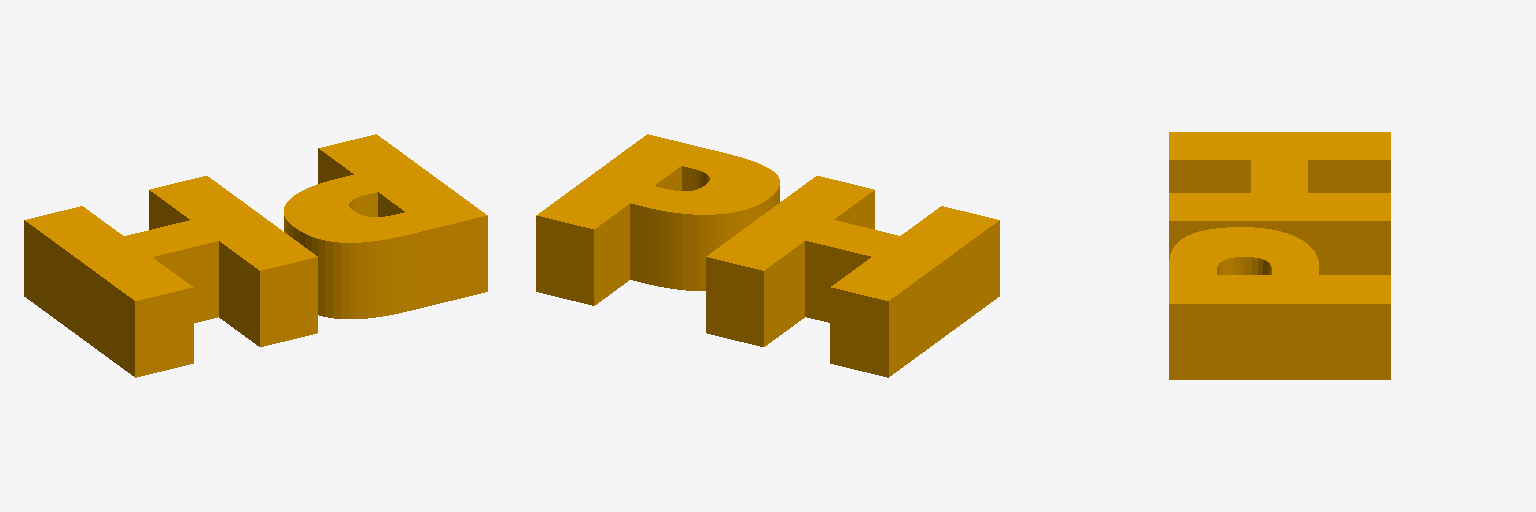
File: phrenderformertest_00.obj
3 views of the same model, side by side, from view 1: azimuth 30°, elevation 25°; view 2: azimuth 150°, elevation 25°; view 3: azimuth 270°, elevation 25° (orthographic).
Visible parts, largest first — view 1: Text002, Text001; view 2: Text002, Text001; view 3: Text001, Text002.
Boxes of the visible parts, box(x1,y1,x2,y2) form: Text002: box(24, 176, 317, 377); Text001: box(284, 134, 487, 318); Text002: box(706, 176, 999, 377); Text001: box(536, 134, 779, 305); Text001: box(1169, 227, 1390, 379); Text002: box(1169, 132, 1390, 274).
Bounding box in the file's own units: 0.9641 × 0.2 × 0.527.